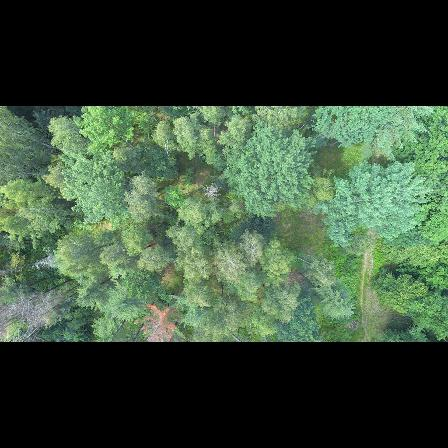Dead: (18, 276, 70, 307), (14, 314, 61, 342), (22, 292, 66, 316), (24, 249, 67, 270), (200, 182, 223, 203)
